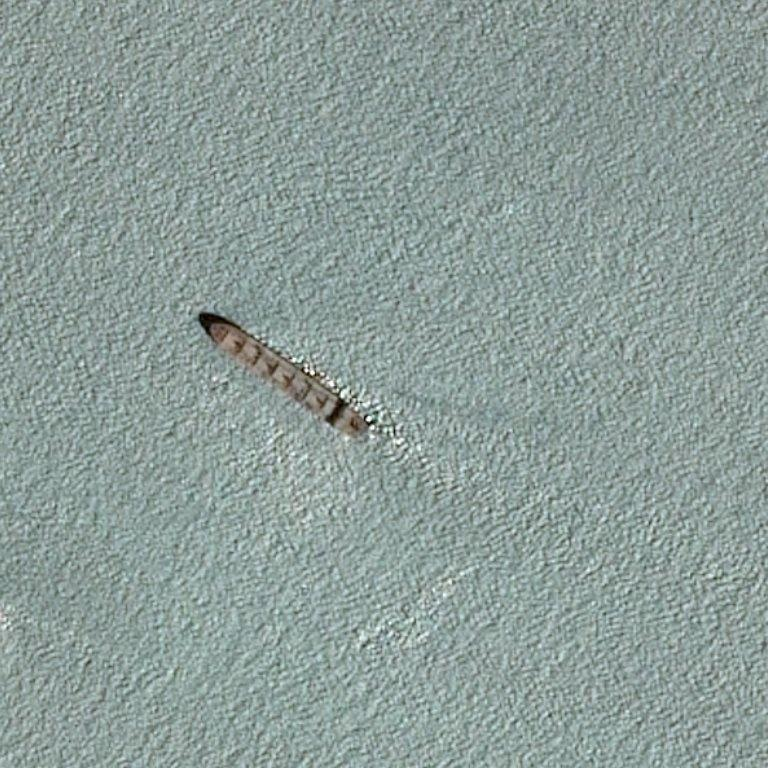ship: (195, 350, 372, 403), (199, 315, 216, 331), (348, 430, 356, 438), (354, 424, 369, 428)
